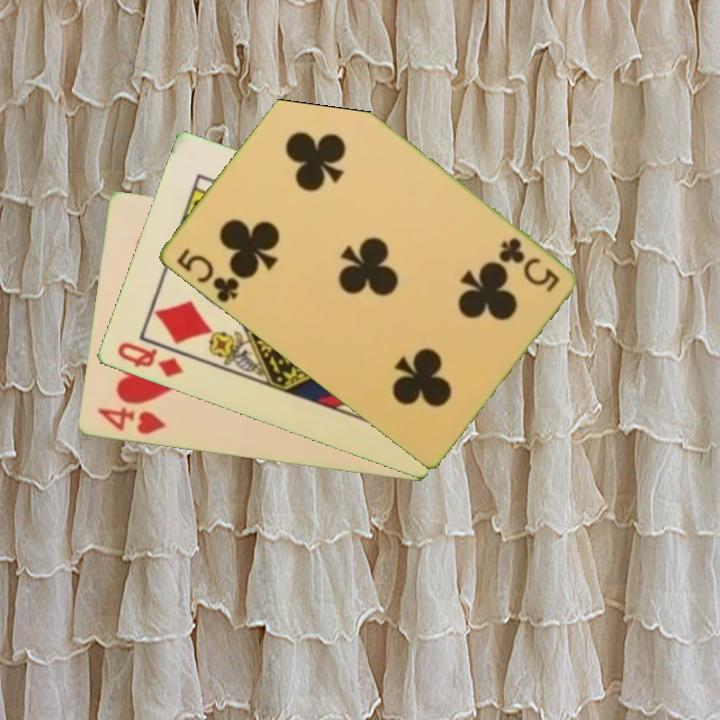4h: (93, 404, 168, 438)
5c: (494, 233, 562, 296), (172, 245, 242, 306)
Qd: (113, 339, 187, 381)
